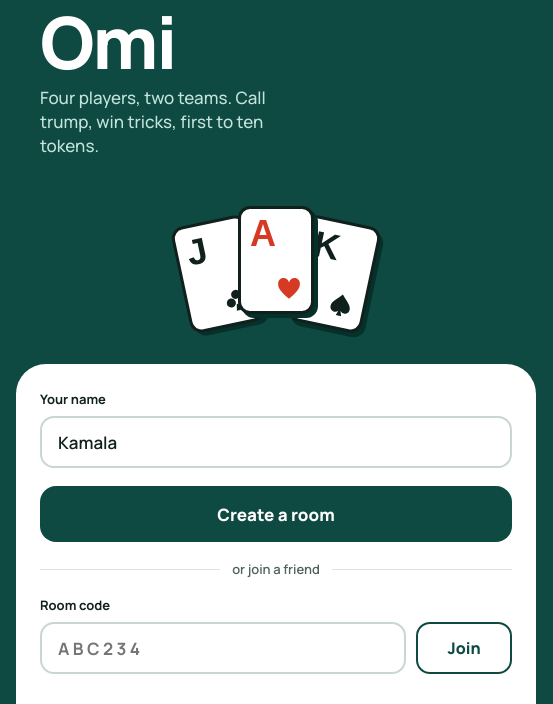
Test: HomeScreen › shows the server’s reason when joining is refused
Type "KXT4P9" into the field labelled "Room code".
click(223, 648); type("KXT4P9")  # box [40, 622, 406, 674]
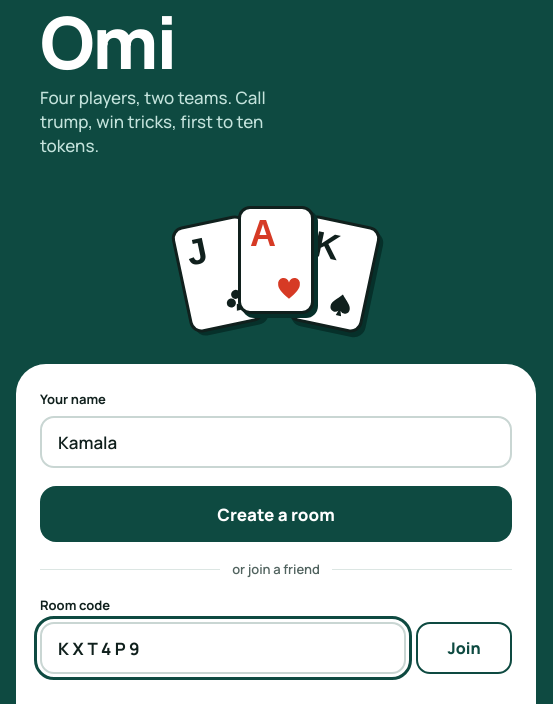
Click the button "Join".
click(464, 648)  # box [416, 622, 512, 674]
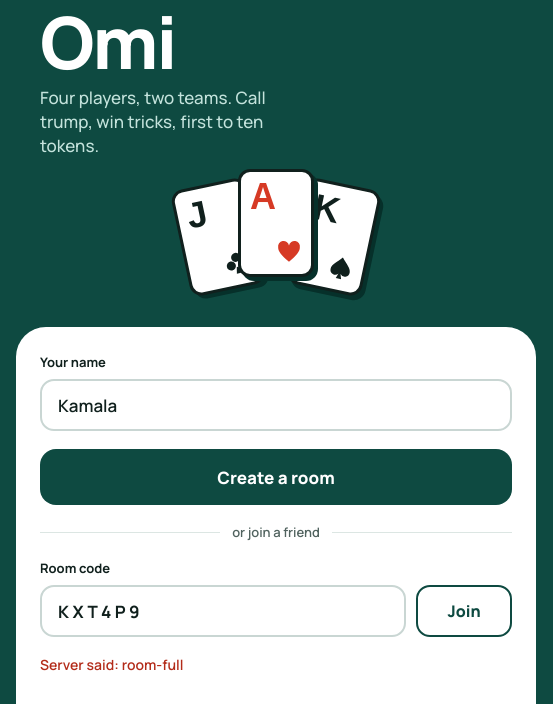
Result: the message reads "Server said: room-full" at [40, 655, 184, 674]
